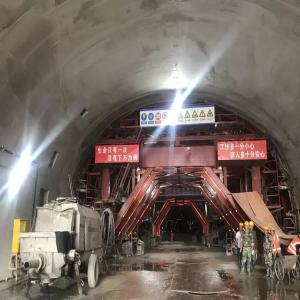yellow: (249, 221, 255, 231), (244, 221, 250, 231), (264, 227, 270, 236), (271, 229, 276, 237), (240, 224, 245, 232)
